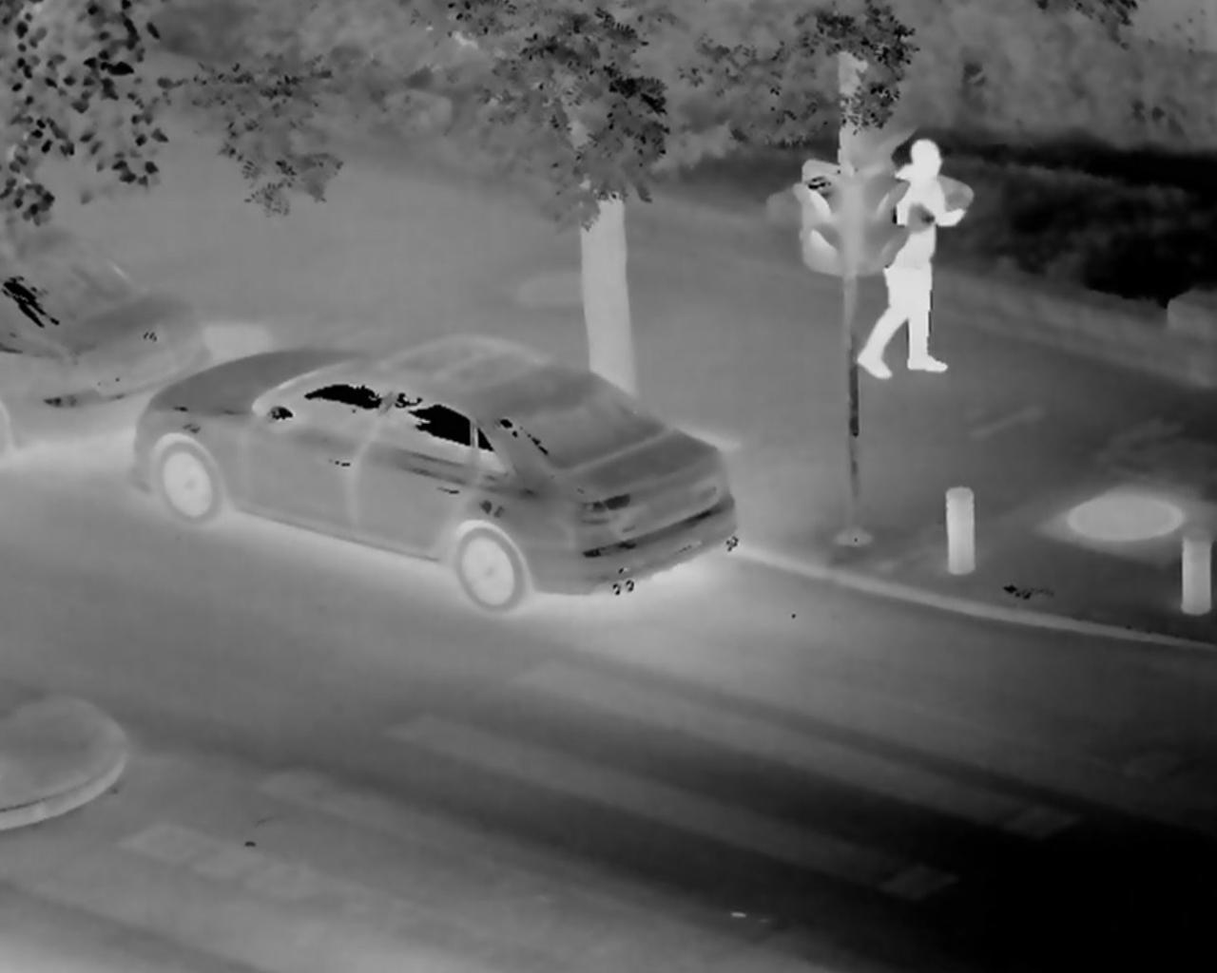person: (851, 126, 961, 386)
